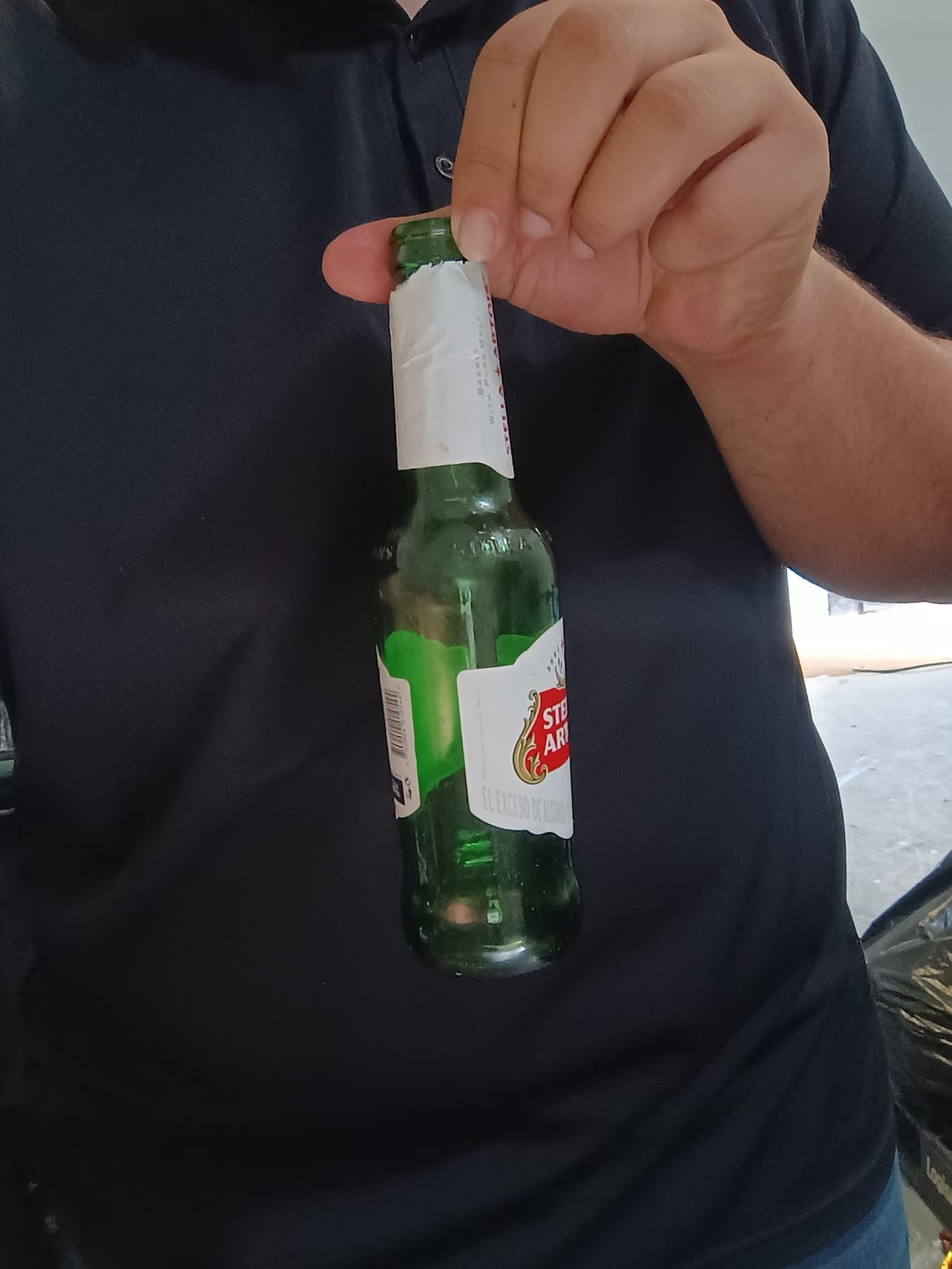Vidrio: (365, 216, 581, 979)
